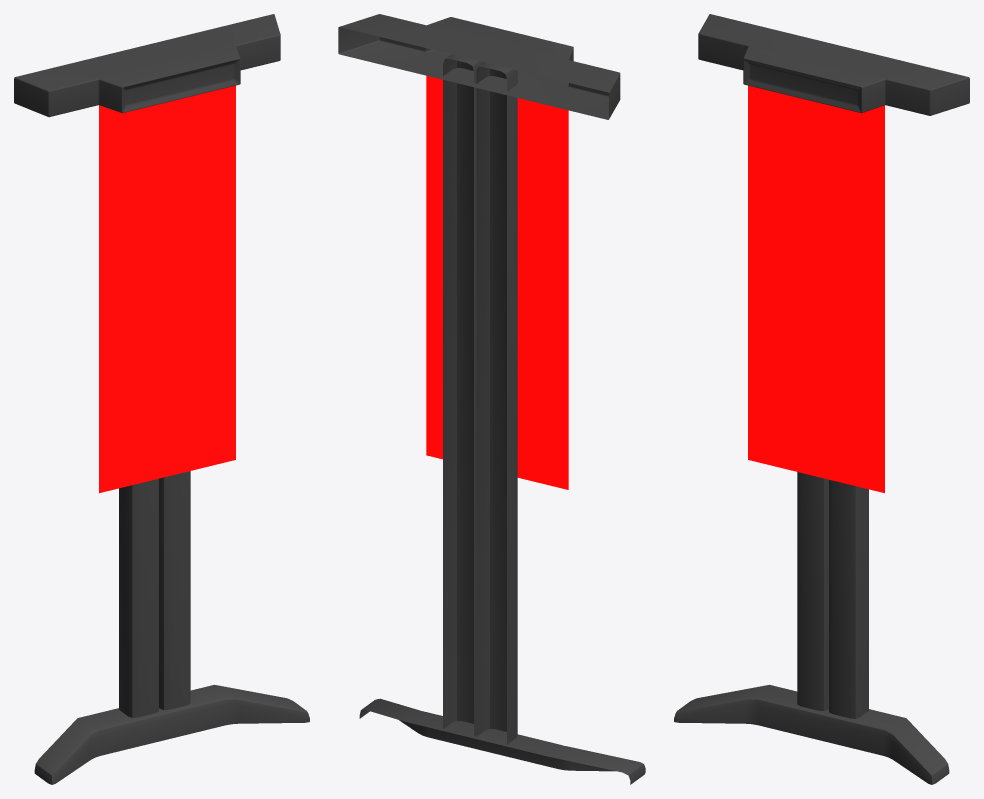
The model's file is CheckPoint_Off.fbx.
3 renders of one model, left to right at view 1: azimuth 30°, elevation 25°; view 2: azimuth 150°, elevation 25°; view 3: azimuth 330°, elevation 25°, orthographic. The views are drawn at different scales.
Parts seen in each view (by area): view 1: Flag001, CheckPointTop001, CheckPointBase001, CheckPointStand003, CheckPointStand004; view 2: CheckPointStand003, Flag001, CheckPointStand004, CheckPointTop001, CheckPointBase001; view 3: Flag001, CheckPointTop001, CheckPointBase001, CheckPointStand004, CheckPointStand003.
Boxes of the visible parts, left/top/right/bottom form: Flag001: left=99, top=85, right=235, bottom=493; CheckPointTop001: left=14, top=14, right=280, bottom=117; CheckPointBase001: left=34, top=684, right=309, bottom=784; CheckPointStand003: left=119, top=478, right=158, bottom=717; CheckPointStand004: left=159, top=471, right=190, bottom=710; CheckPointStand003: left=476, top=62, right=517, bottom=744; Flag001: left=426, top=75, right=568, bottom=489; CheckPointStand004: left=443, top=54, right=483, bottom=736; CheckPointTop001: left=338, top=14, right=620, bottom=119; CheckPointBase001: left=359, top=698, right=645, bottom=784; Flag001: left=748, top=85, right=884, bottom=493; CheckPointTop001: left=698, top=14, right=969, bottom=115; CheckPointBase001: left=674, top=684, right=949, bottom=784; CheckPointStand004: left=829, top=479, right=868, bottom=718; CheckPointStand003: left=797, top=472, right=828, bottom=710.
Bounding box in the file's own units: 42.18 × 105 × 10.38.
1 material, 1 textured.
